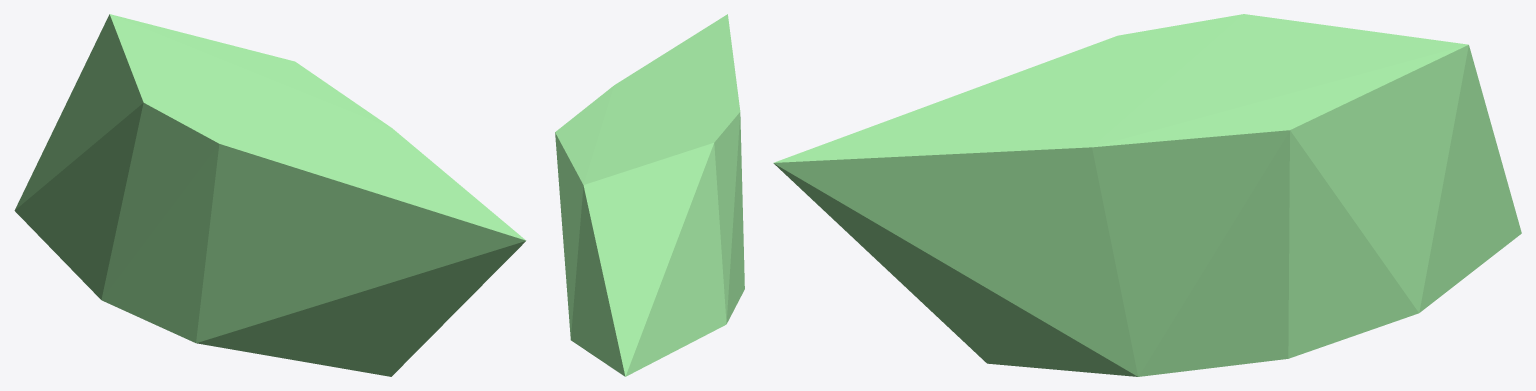
The model's file is UMIRobot_UMIRobot_link_5_convex_coll_72.dae.
3 renders of one model, left to right at view 1: azimuth 30°, elevation 25°; view 2: azimuth 150°, elevation 25°; view 3: azimuth 270°, elevation 25°, orthographic. The views are drawn at different scales.
Parts seen in each view (by area): view 1: node; view 2: node; view 3: node.
Part boxes in pixels (x1=…): node: x1=14, y1=14, x2=526, y2=376; node: x1=555, y1=14, x2=744, y2=376; node: x1=773, y1=14, x2=1521, y2=376.
Bounding box in the file's own units: 0.00464 × 0.00485 × 0.012.
